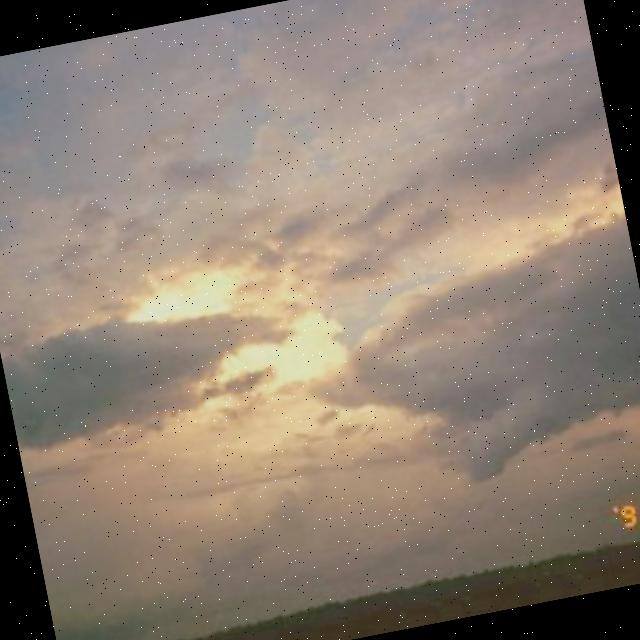Cb: (1, 1, 640, 525)
